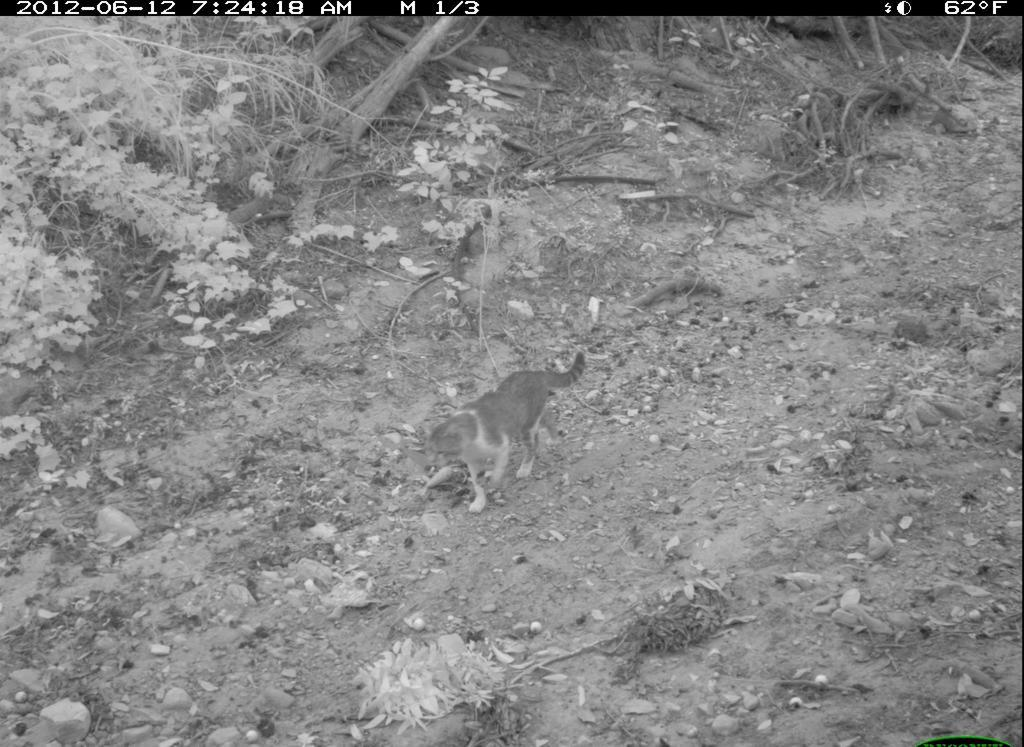cat: (410, 347, 598, 511)
